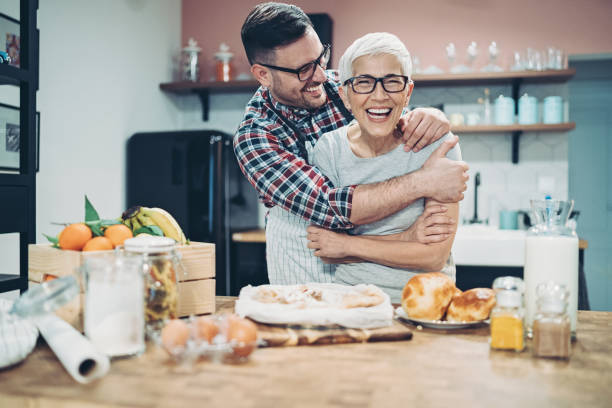without mask: (333, 32, 420, 147), (245, 1, 332, 114)
